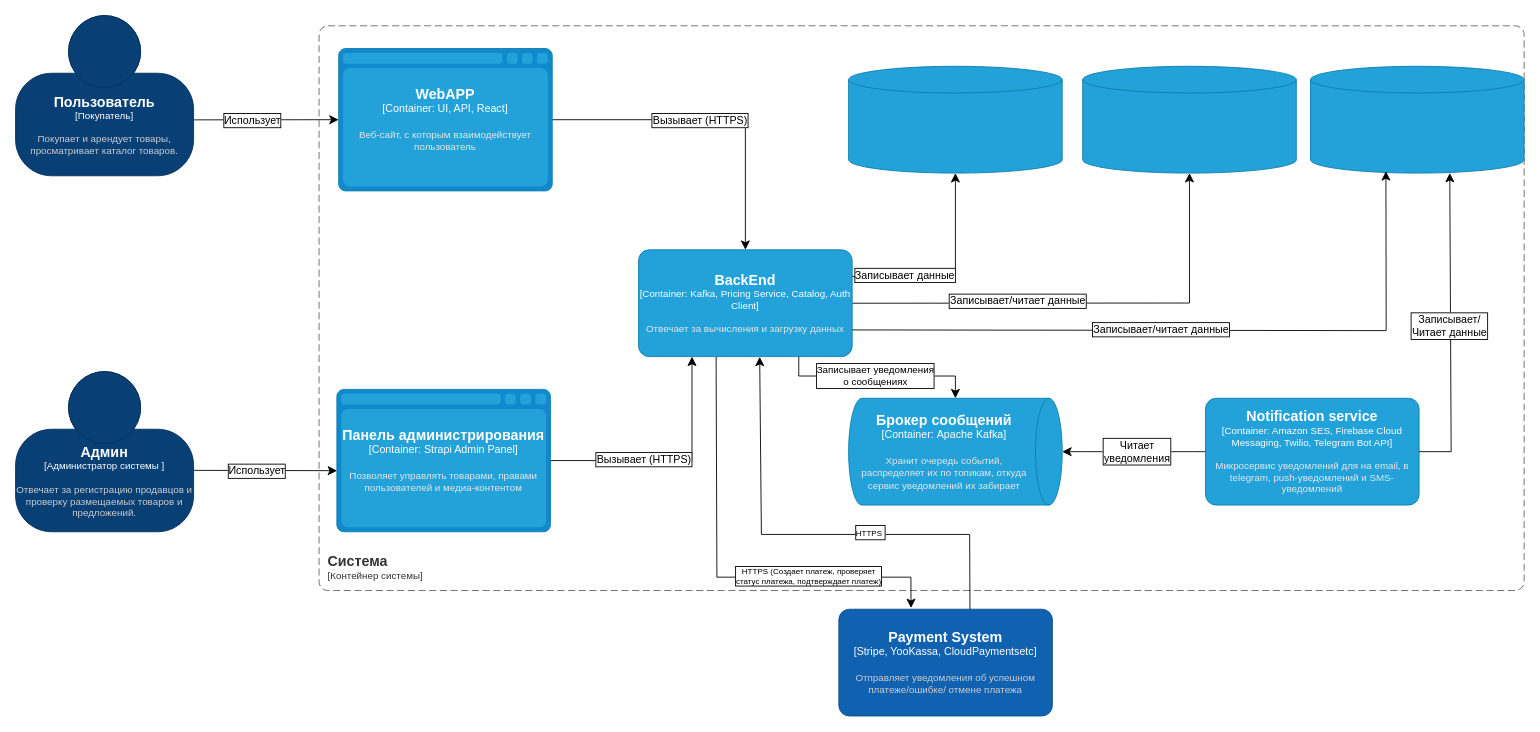
The diagram is 1540 pixels wide and 732 high, and some of its shapes have lost their labels. The shapes that lost their labels are listed below. From the top down, each one's centre as x and y in pixels, then its label:
the point at 955,119: БД FrontEnd [Container: ClickHouse ] System's DB
the point at 1189,119: Direct Storage [Container: Amazon S3] Файловое хранилище (JPEG, MP4)
the point at 1417,119: БД BackEnd и Уведомления [Container: PostgeSQL ] System's DB
